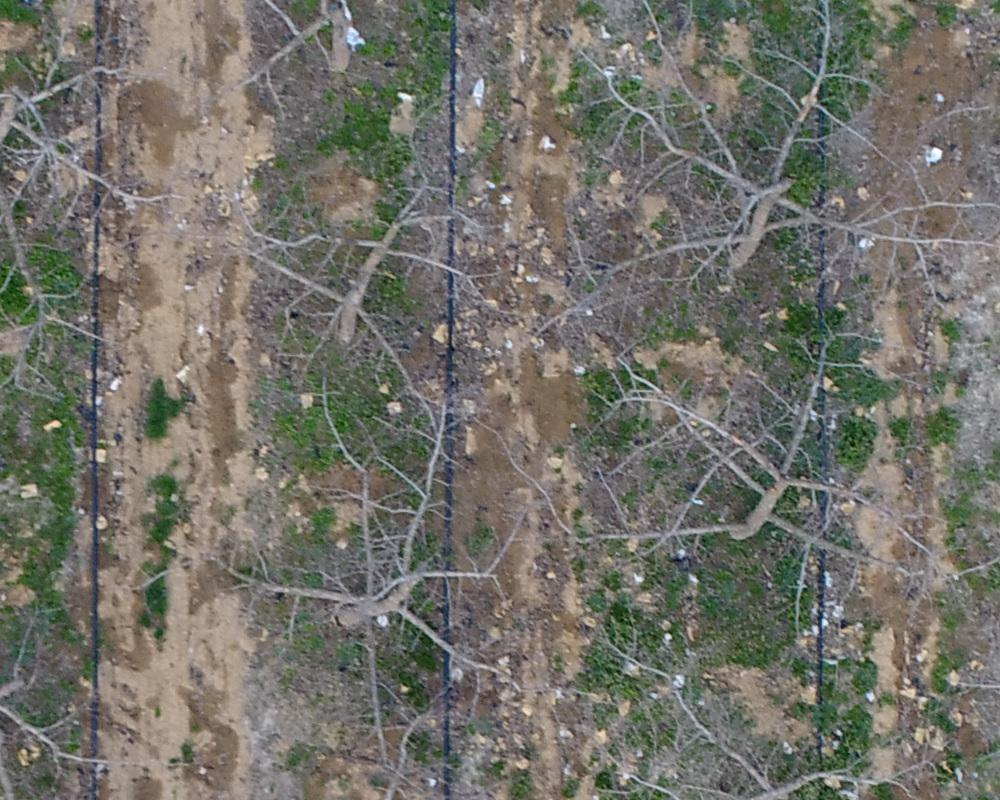apple: (557, 10, 990, 334), (481, 359, 966, 630), (219, 381, 540, 754), (246, 159, 488, 430), (10, 39, 190, 360), (581, 639, 902, 790)
